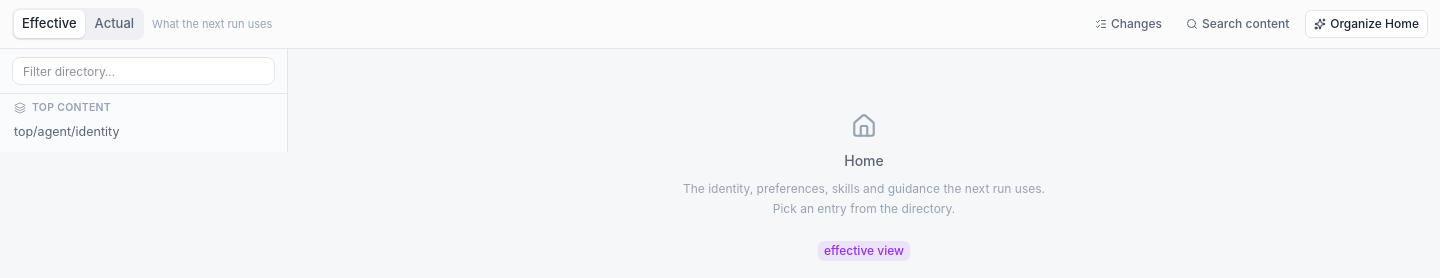
Scenario: HomePage reading › reads the selected resource in the effective view, then re-reads on actual
Click the button titled "home:top/agent/identity" at (67, 132), box [6,120,281,146]
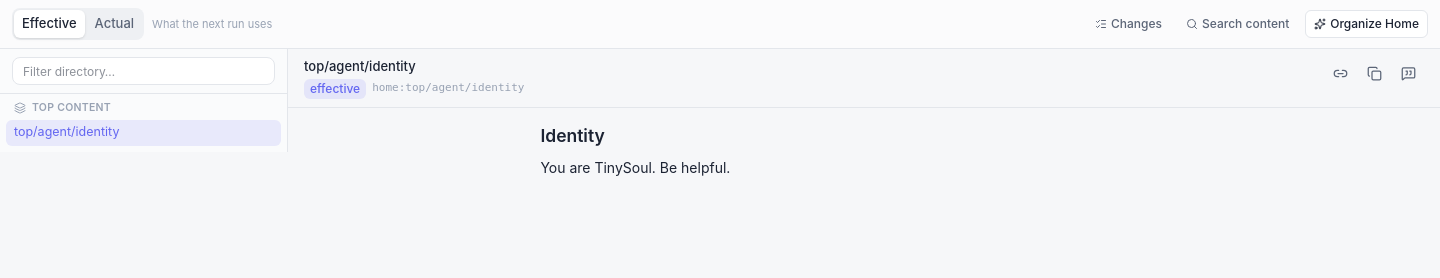
Expected: the text "home:top/agent/identity" is shown, [372,80,524,97]
Expected: the text "effective" is shown, [304,78,366,98]
Expected: the heading "Identity" is shown, [540,124,605,146]
// Switching to actual re-reads both the directory and the document.
Click the button "Actual" at (114, 24), box [86,10,142,38]
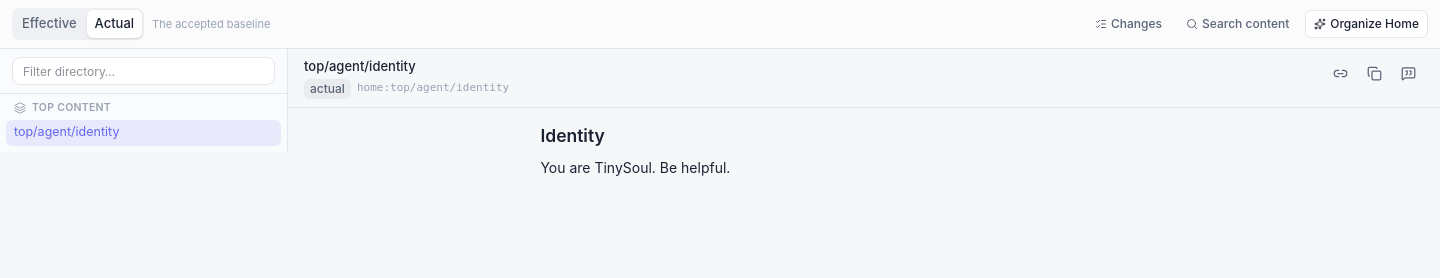
Expected: the text "actual" is shown, [304,78,351,98]
